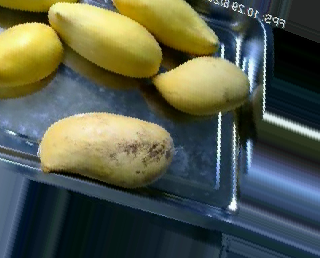Mango: (38, 111, 174, 188), (48, 4, 164, 76), (107, 0, 220, 53), (152, 56, 251, 115), (0, 21, 64, 88)
